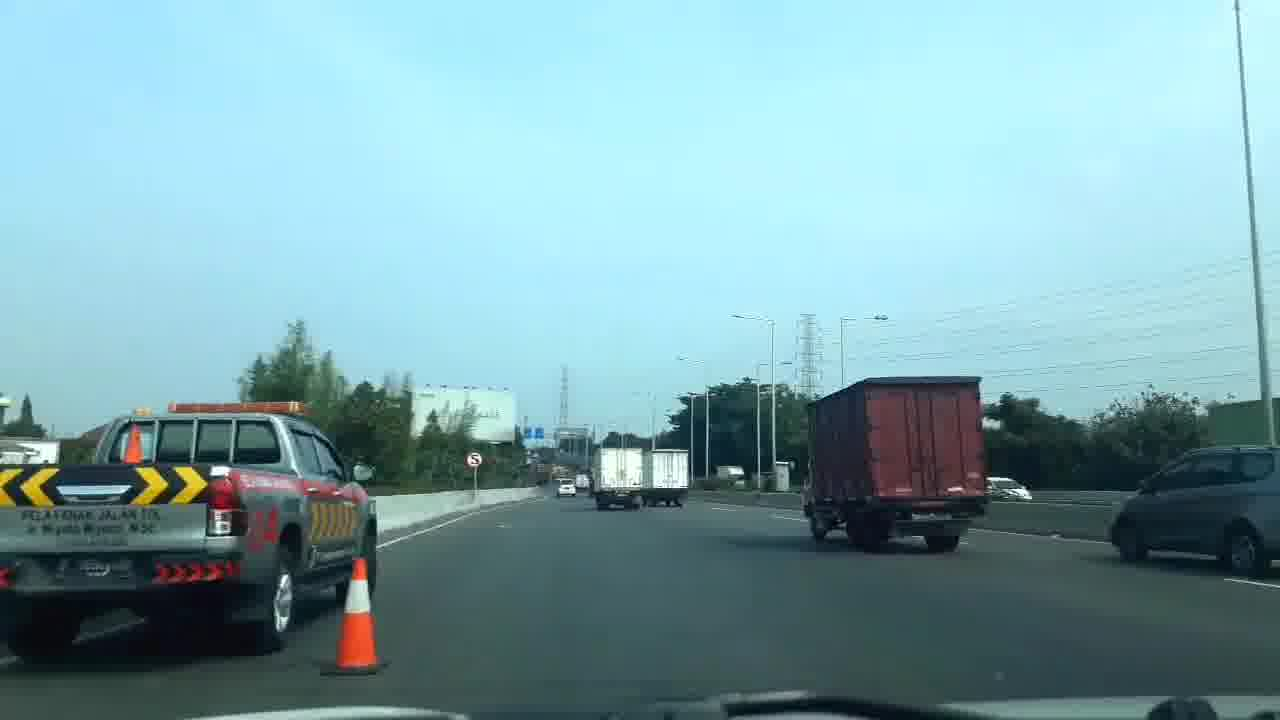plate_positive: (911, 511, 952, 521)
